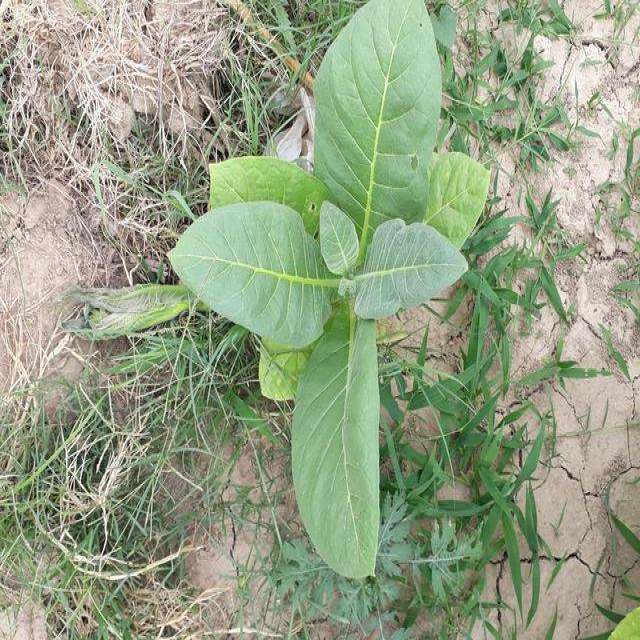crop: (165, 0, 490, 573)
